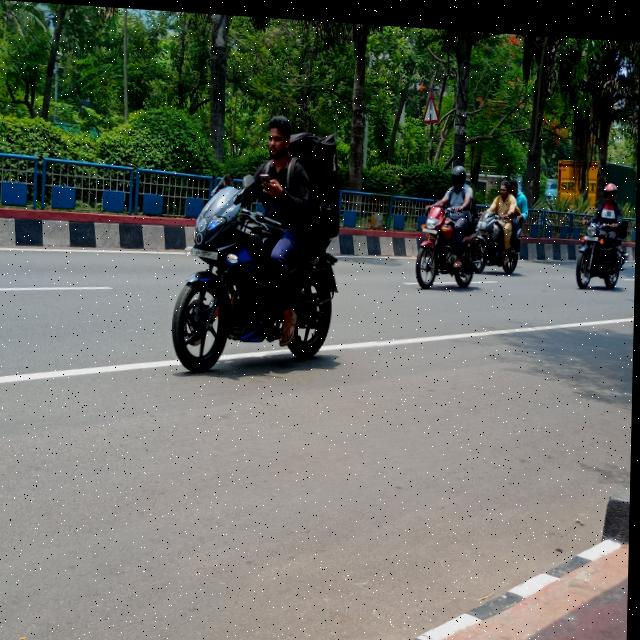bike: (173, 179, 352, 385), (412, 192, 485, 297), (572, 209, 632, 293)
